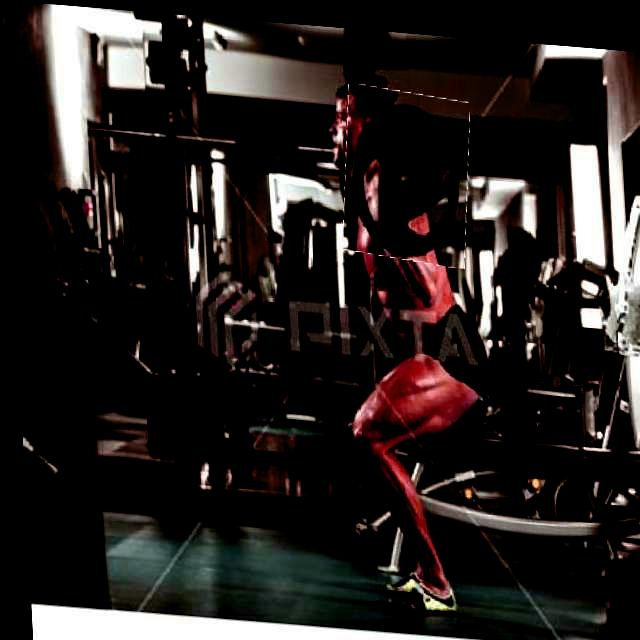barbell: (337, 80, 472, 261)
